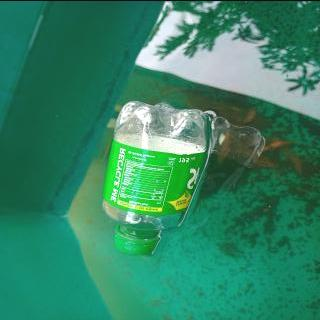bottle: (99, 101, 210, 255)
